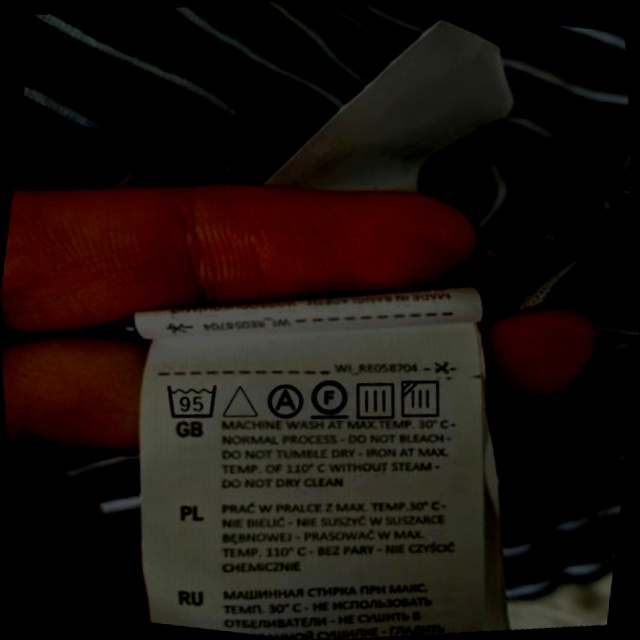95C: (159, 373, 226, 428)
bleach: (217, 375, 263, 426)
drip_dry: (348, 372, 403, 427)
drip_dry_in_shade: (394, 371, 452, 428)
dry_clean: (260, 377, 309, 425)
dry_clean_petrol_only: (304, 370, 356, 426)
